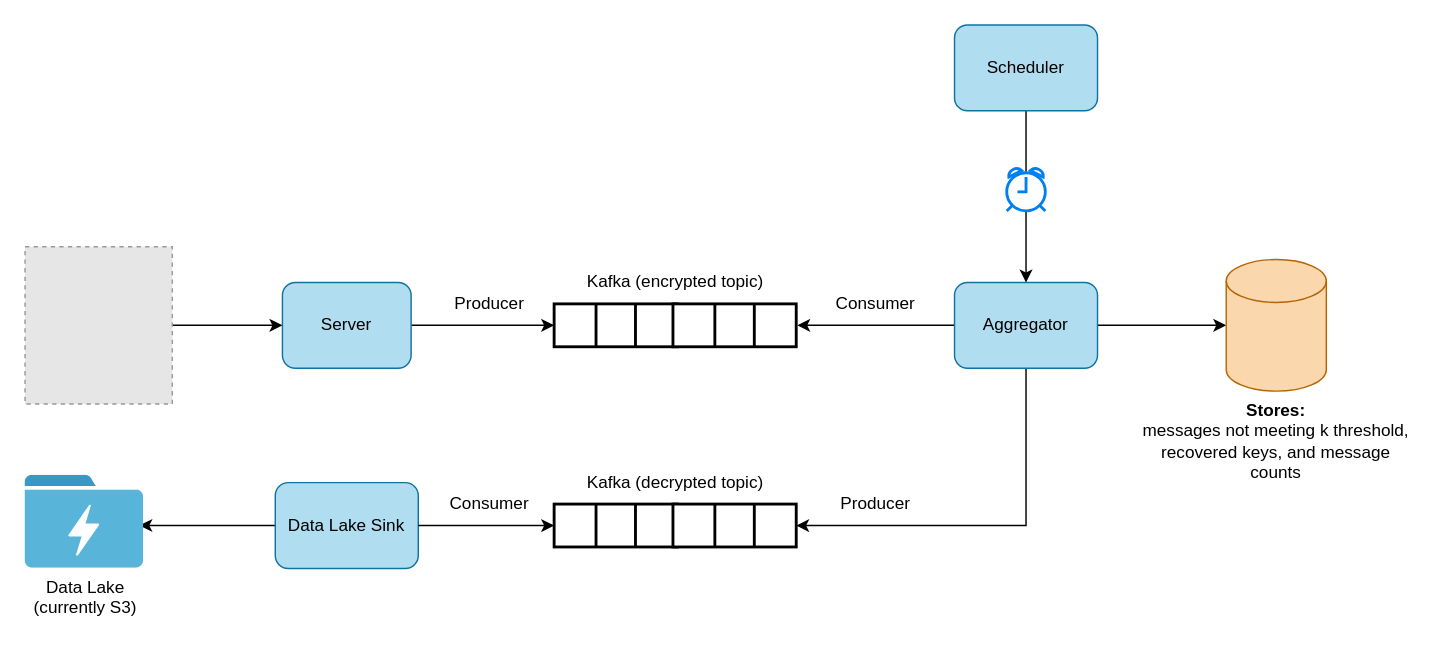
The diagram is 1443 pixels wide and 645 high, and some of its shapes have lost their labels. Grey dashed boxes stand in for pictures. Here are the shapes that lost their labels. From the top down, the centre of each, then its label:
At point (1025, 189): "Scheduled task".
At point (1275, 324): "Postgres".
